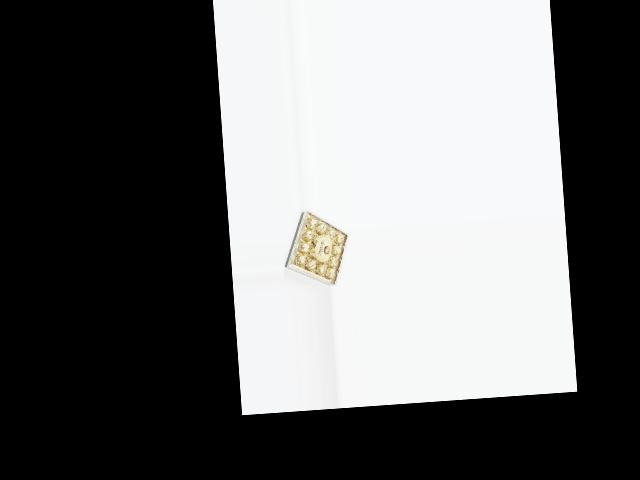chocolate: (279, 206, 353, 290)
